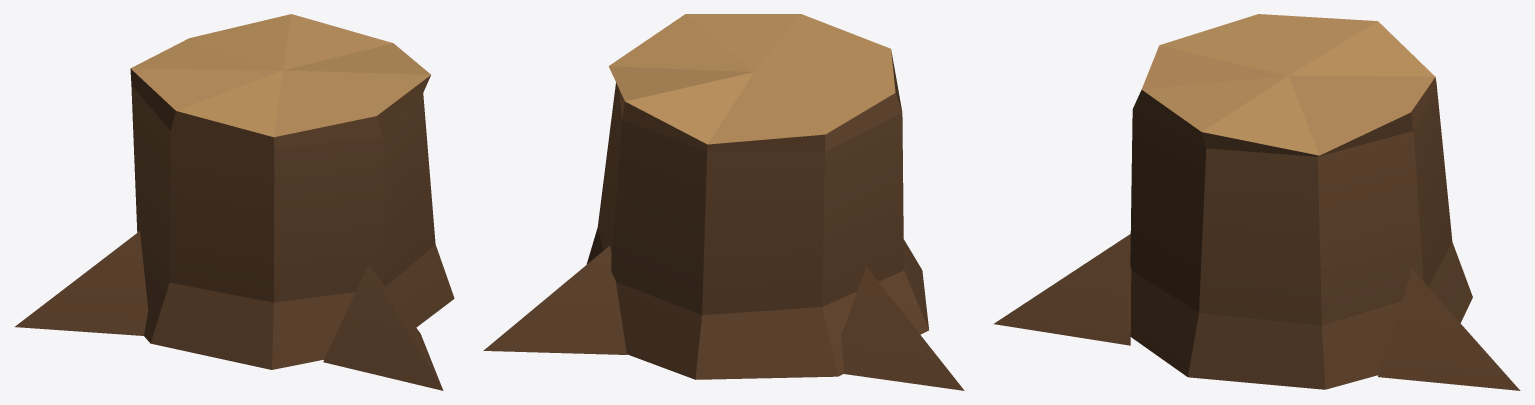
The model's file is stump.glb.
3 views of the same model, side by side, from view 1: azimuth 30°, elevation 25°; view 2: azimuth 150°, elevation 25°; view 3: azimuth 270°, elevation 25° (orthographic). The views are drawn at different scales.
Visible parts, largest first — view 1: stump; view 2: stump; view 3: stump.
Part boxes in pixels (bbox=[...]): stump: bbox=[15, 14, 454, 390]; stump: bbox=[483, 14, 964, 390]; stump: bbox=[994, 14, 1520, 390].
Size of the model in its own units: 0.7485 by 0.415 by 0.8364.
